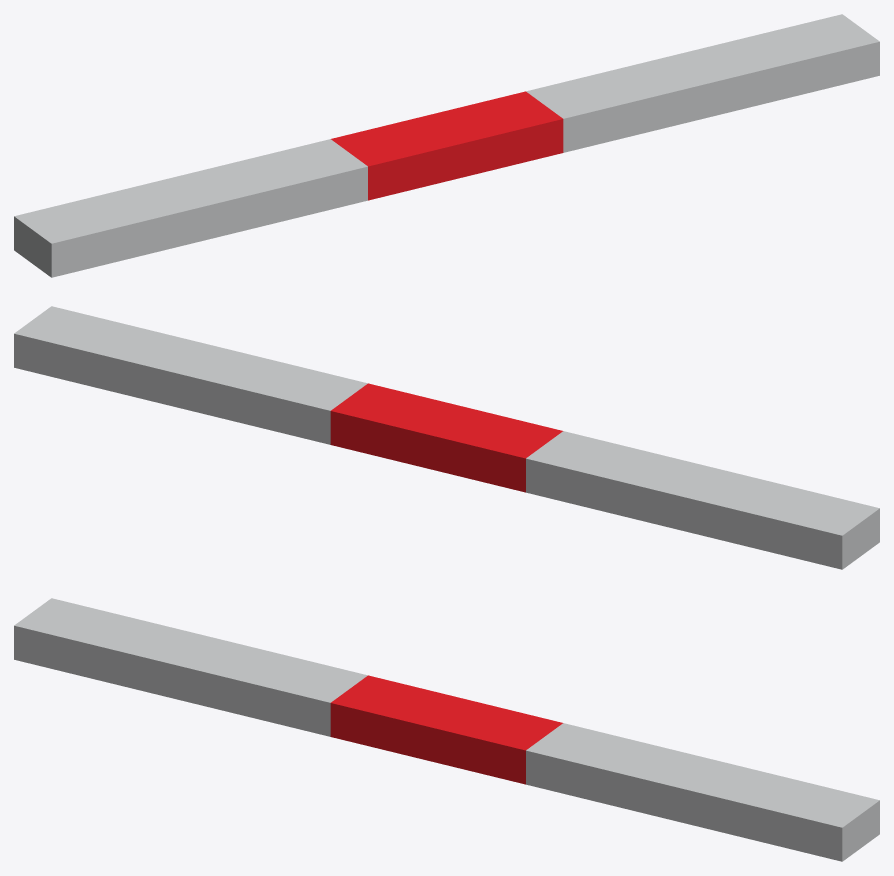
The model's file is basamak.fbx.
3 views of the same model, one above another, from view 1: azimuth 30°, elevation 25°; view 2: azimuth 150°, elevation 25°; view 3: azimuth 330°, elevation 25° (orthographic).
Parts seen in each view (by area): view 1: b1; view 2: b1; view 3: b1.
Boxes of the visible parts, x1,y1,x2,y2 form: b1: [14, 14, 879, 277]; b1: [14, 306, 879, 569]; b1: [14, 598, 879, 861].
Bounding box in the file's own units: 2546 × 100 × 200.
1 material, 1 textured.
